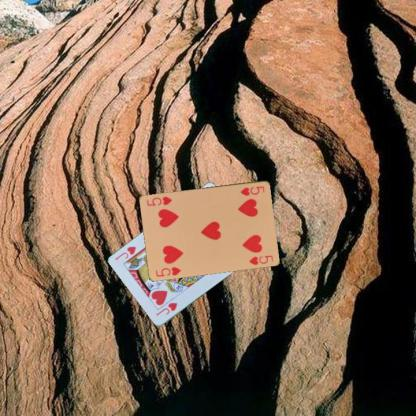5h: (153, 264, 183, 277), (238, 184, 266, 197)
Jh: (153, 300, 179, 317)
